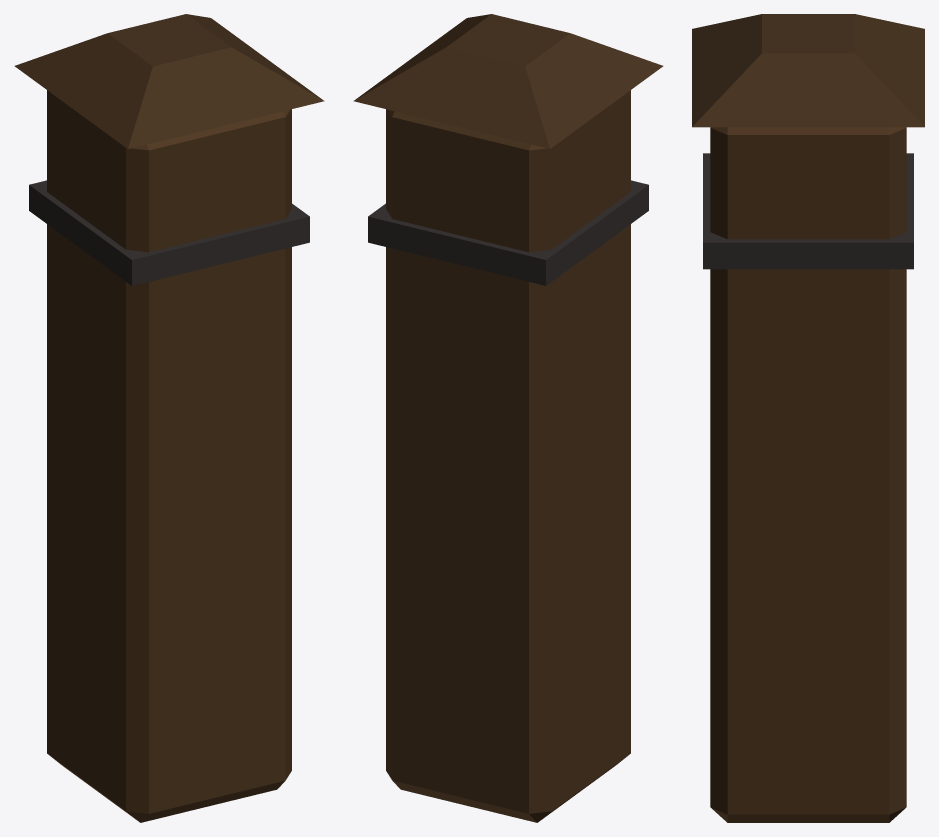
Rendered from PlotCorner.glb.
3 renders of one model, left to right at view 1: azimuth 30°, elevation 25°; view 2: azimuth 150°, elevation 25°; view 3: azimuth 270°, elevation 25°, orthographic. The views are drawn at different scales.
Parts seen in each view (by area): view 1: Body; view 2: Body; view 3: Body.
Part boxes in pixels (x1,y1,x2,y2): Body: (14, 14, 324, 822); Body: (353, 14, 663, 822); Body: (692, 14, 924, 822).
Bounding box in the file's own units: 0.95 × 3.4 × 0.95.
